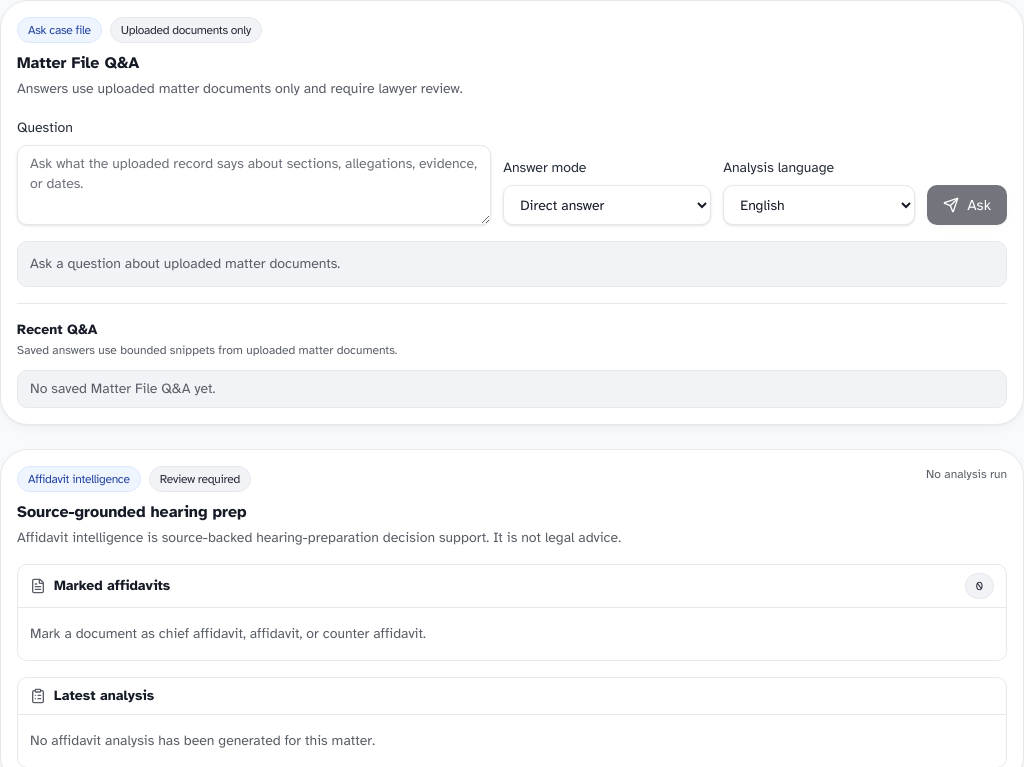
Test case: MatterDocumentsPage › sends a local-language Matter File Q&A request and renders the labelled aid
The width and height of the screenshot is (1024, 767).
Type "Which payment default is recorded?" into the text box with test id "matter-file-qa-question".
click(254, 185); type("Which payment default is recorded?")  # box [17,145,491,225]
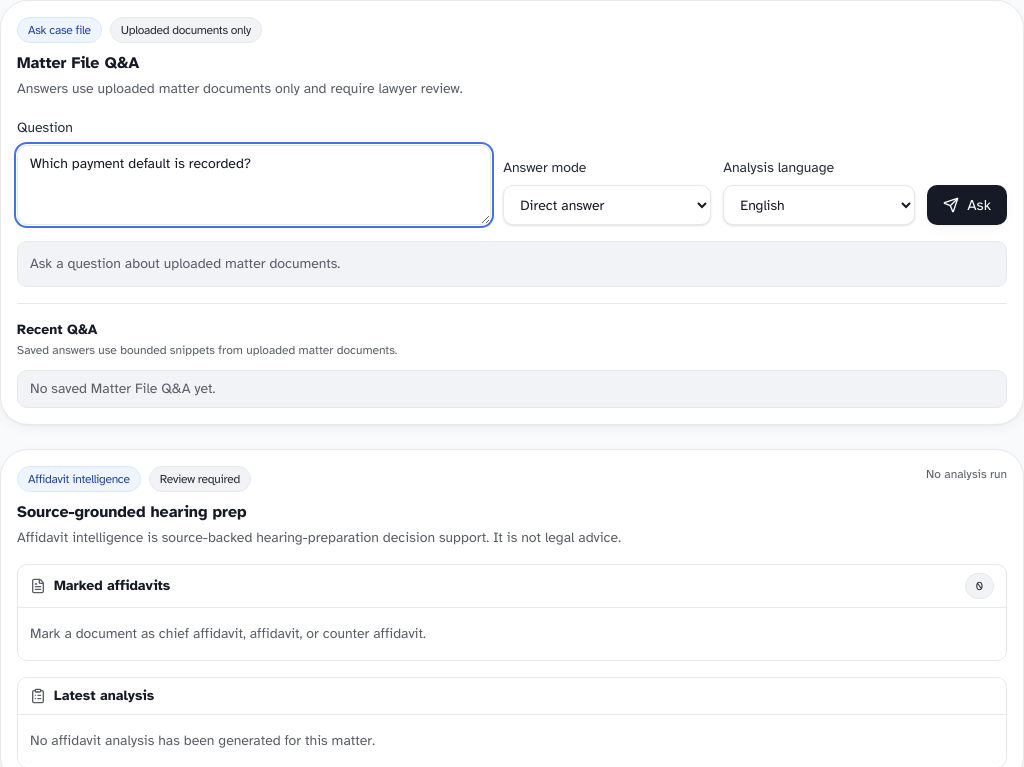
Select "Hindi" in the dropdown with test id "matter-file-qa-language" at (819, 205), box [723,185,915,225]
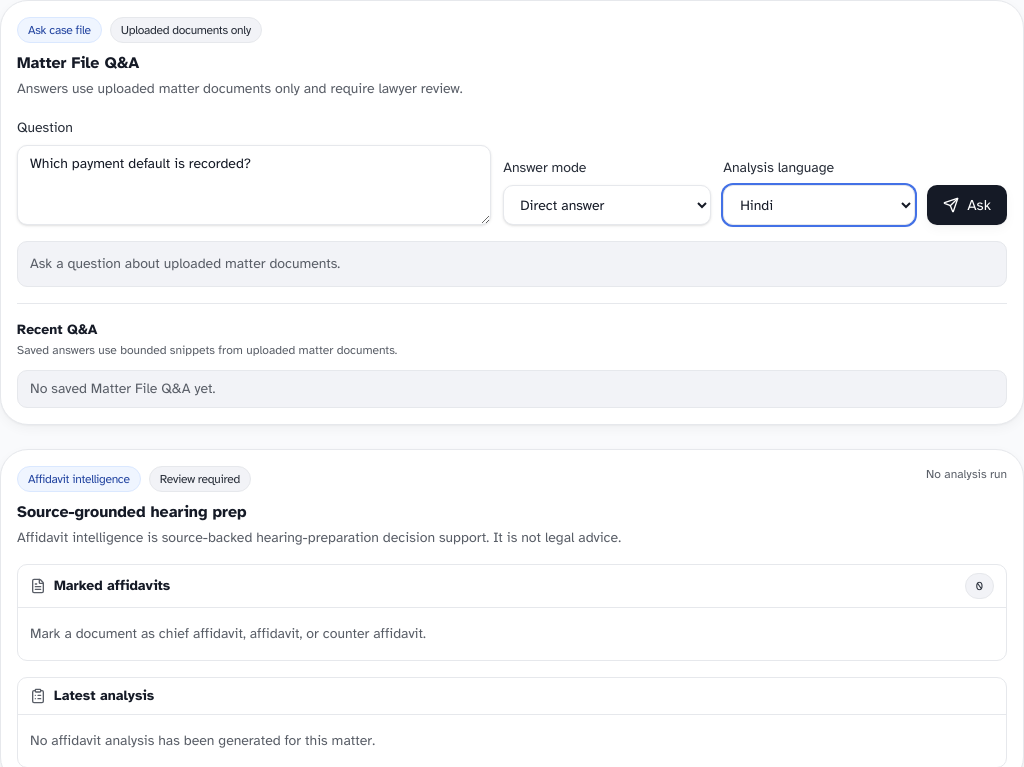
Click the button with test id "matter-file-qa-submit".
click(967, 205)  # box [927,185,1007,225]
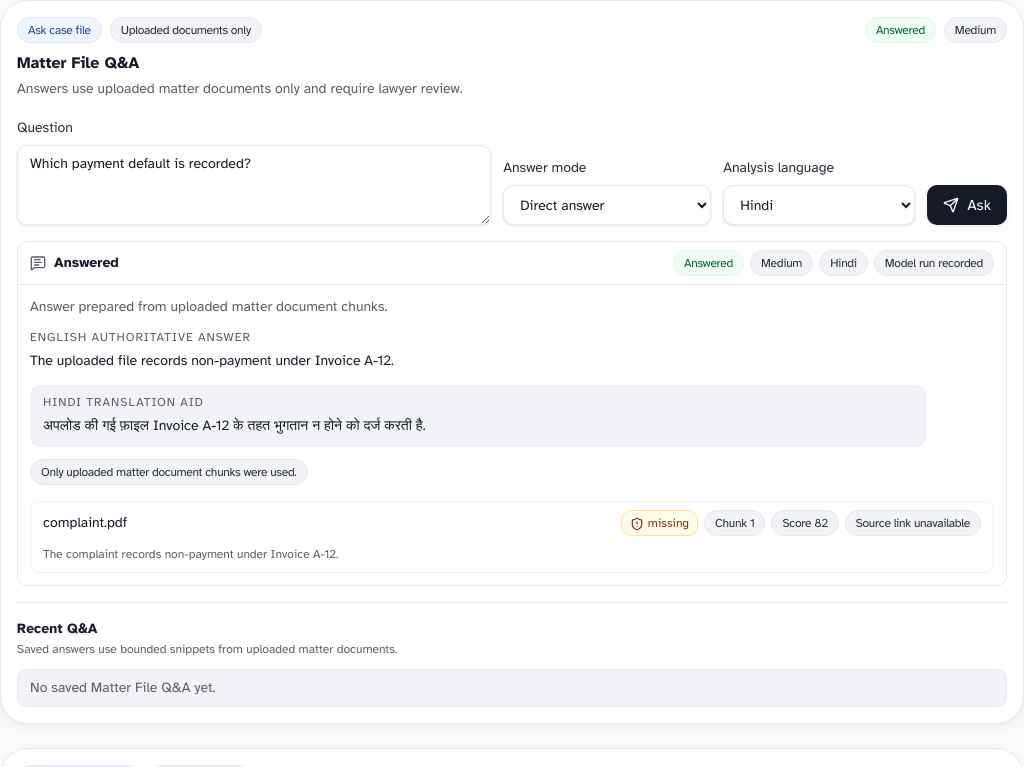
Result: the element with test id "matter-file-qa-result-answered" shows "English authoritative answer" at [30,330,251,344]
Result: the element with test id "matter-file-qa-local-language-analysis" shows "Hindi translation aid" at [30,385,926,447]
Result: the element with test id "matter-file-qa-local-language-analysis" shows "Invoice A-12" at [43,417,426,434]
